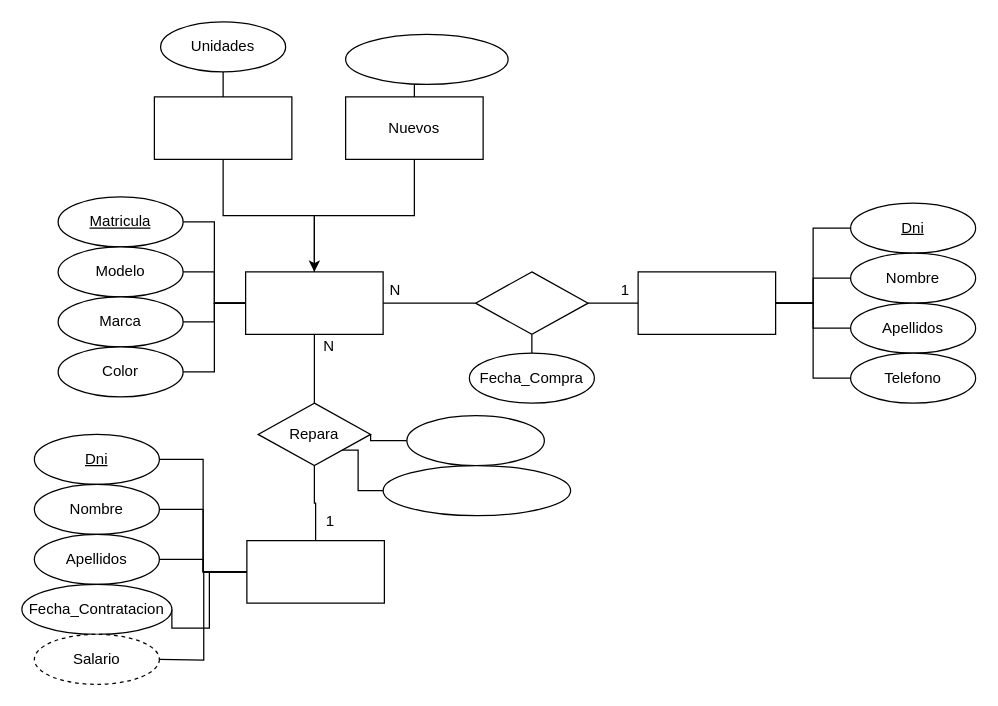
This 998x706 diagram has some shape labels left out. Here are the shapes that lost their labels. From the top down, the centre of each, then its label:
the point at 426,58: Numero_Kilometros Recorridos
the point at 222,127: Usados
the point at 313,302: Coche
the point at 531,302: Compra
the point at 706,302: Cliente
the point at 475,440: Fecha_Reparacion
the point at 476,490: Numeros_Horas_Arreglar
the point at 315,571: Mecanico
